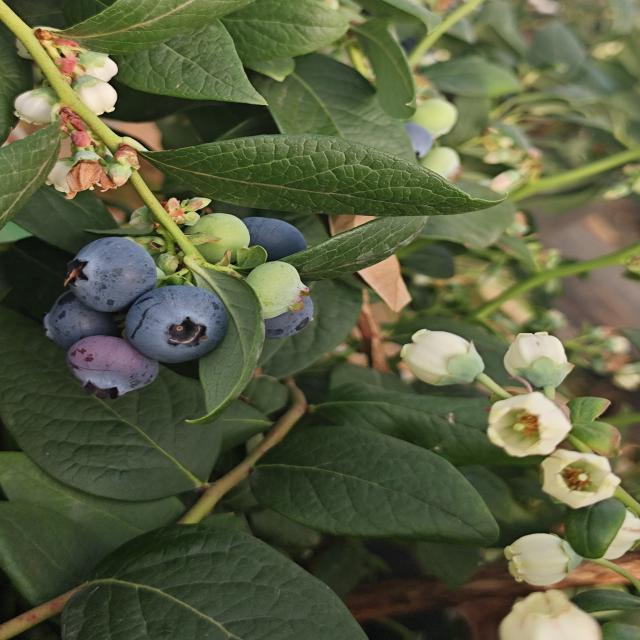ripe: (124, 290, 233, 361), (62, 230, 156, 306), (65, 344, 157, 397), (254, 288, 324, 345), (45, 303, 121, 348), (234, 212, 312, 252), (387, 112, 438, 162)
